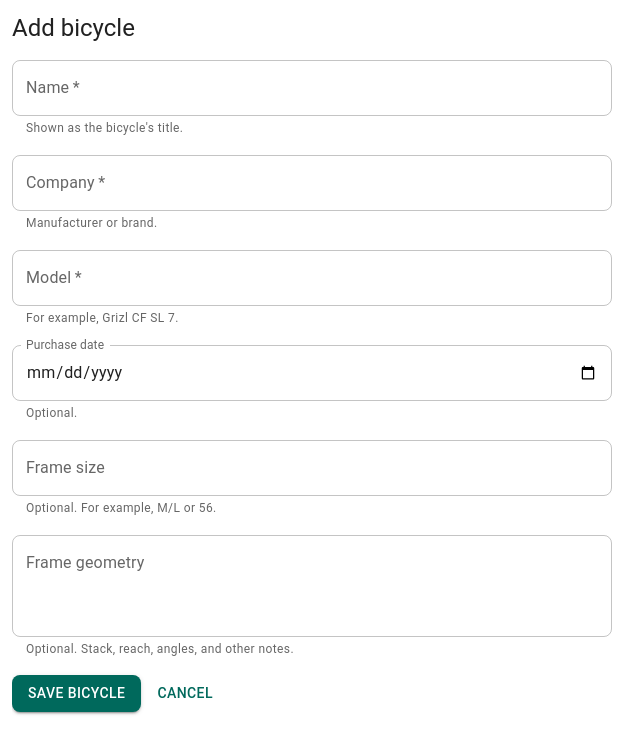
Test: AddBicycle › explains a purchased rejected as invalidFormat
Step 1. Click the button "Save bicycle" → [77, 694], box [12, 676, 141, 712]
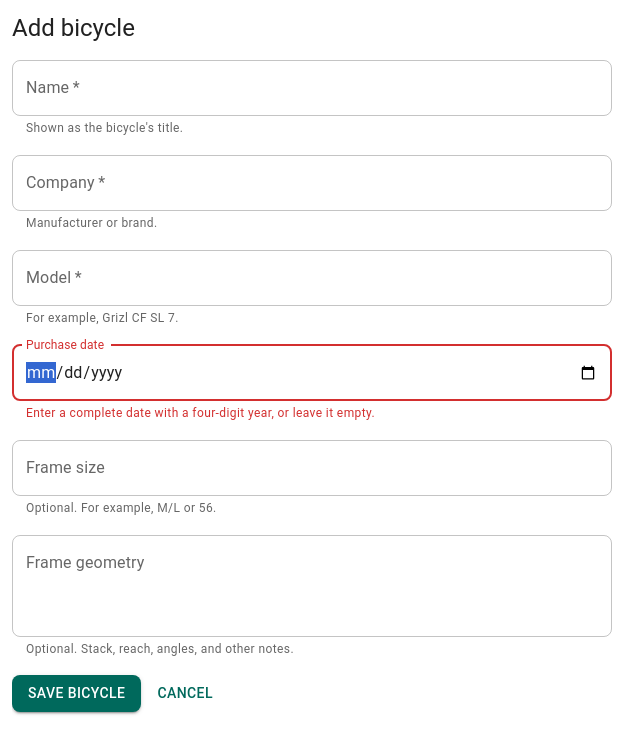
expect the text "Enter a complete date with a four-digit year, or leave it empty." is shown: met, box [26, 406, 375, 420]
